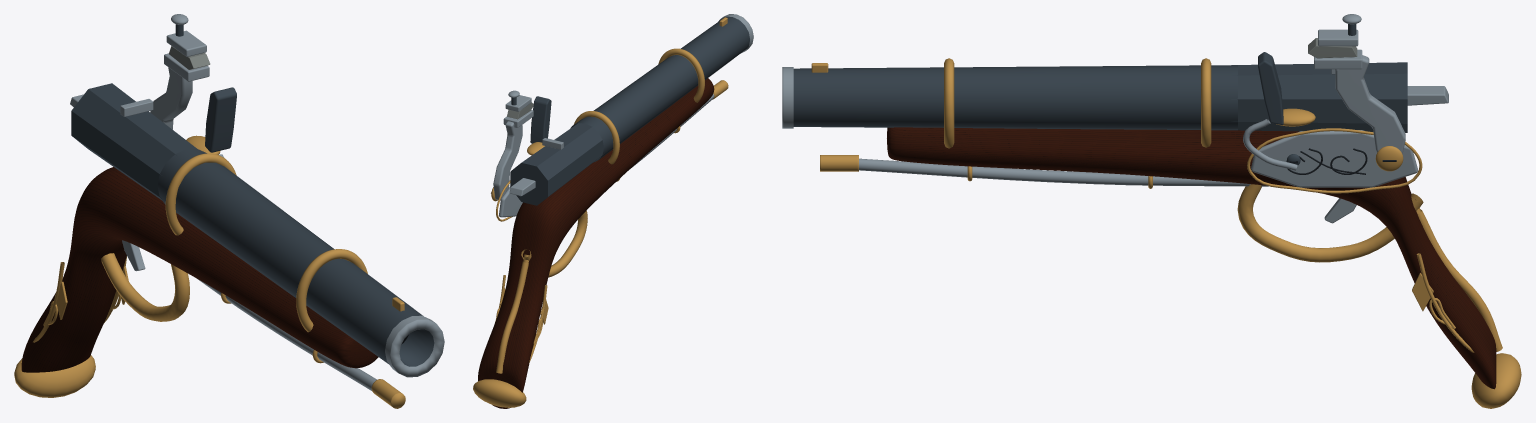
File: blackbeard_flintlock.glb
3 renders of one model, left to right at view 1: azimuth 30°, elevation 25°; view 2: azimuth 150°, elevation 25°; view 3: azimuth 270°, elevation 25°, orthographic. The views are drawn at different scales.
Parts seen in each view (by area): view 1: 01 Walnut stock - continuous curved grip, 03 Long tapered muzzle barrel, 02 Octagonal breech barrel, 32 Trigger guard bow, 12 Rounded brass butt cap, 04 Muzzle polished crown, 30 Frizzen face, 21 Cock forged S profile, 07 Barrel band 1, 09 Ramrod, 07 Barrel band 0, 25 Upper flint jaw (+5 smaller); view 2: 01 Walnut stock - continuous curved grip, 03 Long tapered muzzle barrel, 02 Octagonal breech barrel, 12 Rounded brass butt cap, 21 Cock forged S profile, 13 Butt spine ornament, 30 Frizzen face, 32 Trigger guard bow, 07 Barrel band 1, 07 Barrel band 0, 17 Fitted steel lockplate, 06 Breech tang (+1 smaller); view 3: 03 Long tapered muzzle barrel, 01 Walnut stock - continuous curved grip, 02 Octagonal breech barrel, 17 Fitted steel lockplate, 09 Ramrod, 32 Trigger guard bow, 21 Cock forged S profile, 12 Rounded brass butt cap, 18 Lockplate engraved rim, 30 Frizzen face, 13 Butt spine ornament, 07 Barrel band 1 (+6 smaller).
Part boxes in pixels (box(x1,y1,x2,y2)): 01 Walnut stock - continuous curved grip: box(21, 167, 378, 372); 03 Long tapered muzzle barrel: box(157, 148, 434, 366); 02 Octagonal breech barrel: box(71, 83, 199, 200); 32 Trigger guard bow: box(101, 253, 189, 321); 12 Rounded brass butt cap: box(14, 355, 95, 397); 04 Muzzle polished crown: box(385, 315, 444, 377); 30 Frizzen face: box(205, 87, 236, 152); 21 Cock forged S profile: box(150, 67, 192, 129); 07 Barrel band 1: box(296, 249, 367, 332); 09 Ramrod: box(197, 279, 376, 390); 07 Barrel band 0: box(165, 153, 236, 235); 25 Upper flint jaw: box(166, 30, 206, 56); 01 Walnut stock - continuous curved grip: box(478, 78, 714, 408); 03 Long tapered muzzle barrel: box(570, 16, 749, 162); 02 Octagonal breech barrel: box(510, 123, 604, 205); 12 Rounded brass butt cap: box(473, 379, 526, 407); 21 Cock forged S profile: box(493, 117, 522, 200); 13 Butt spine ornament: box(496, 262, 528, 373); 30 Frizzen face: box(530, 96, 551, 143); 32 Trigger guard bow: box(521, 210, 587, 277); 07 Barrel band 1: box(658, 48, 704, 102); 07 Barrel band 0: box(573, 111, 619, 164); 17 Fitted steel lockplate: box(499, 186, 522, 217); 06 Breech tang: box(509, 178, 535, 196); 03 Long tapered muzzle barrel: box(793, 65, 1237, 130); 01 Walnut stock - continuous curved grip: box(887, 127, 1496, 389); 02 Octagonal breech barrel: box(1231, 62, 1407, 132); 17 Fitted steel lockplate: box(1251, 130, 1417, 187); 09 Ramrod: box(859, 158, 1268, 186); 32 Trigger guard bow: box(1237, 184, 1423, 262); 21 Cock forged S profile: box(1335, 55, 1405, 153); 12 Rounded brass butt cap: box(1471, 353, 1521, 408); 18 Lockplate engraved rim: box(1247, 128, 1422, 193); 30 Frizzen face: box(1258, 52, 1283, 124); 13 Butt spine ornament: box(1417, 209, 1502, 351); 07 Barrel band 1: box(944, 58, 954, 148).
Bounding box in the file's own units: 0.0848 × 0.328 × 0.532.
Materials: 6 (1 with a texture image).
